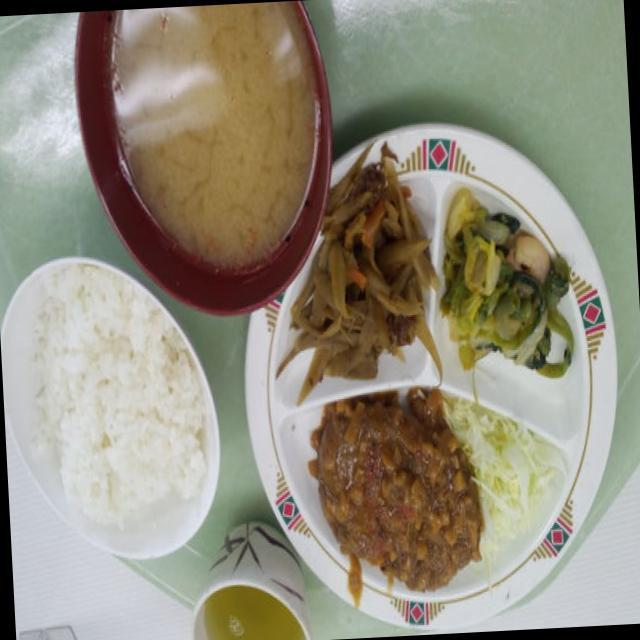Rice: (13, 267, 216, 543)
